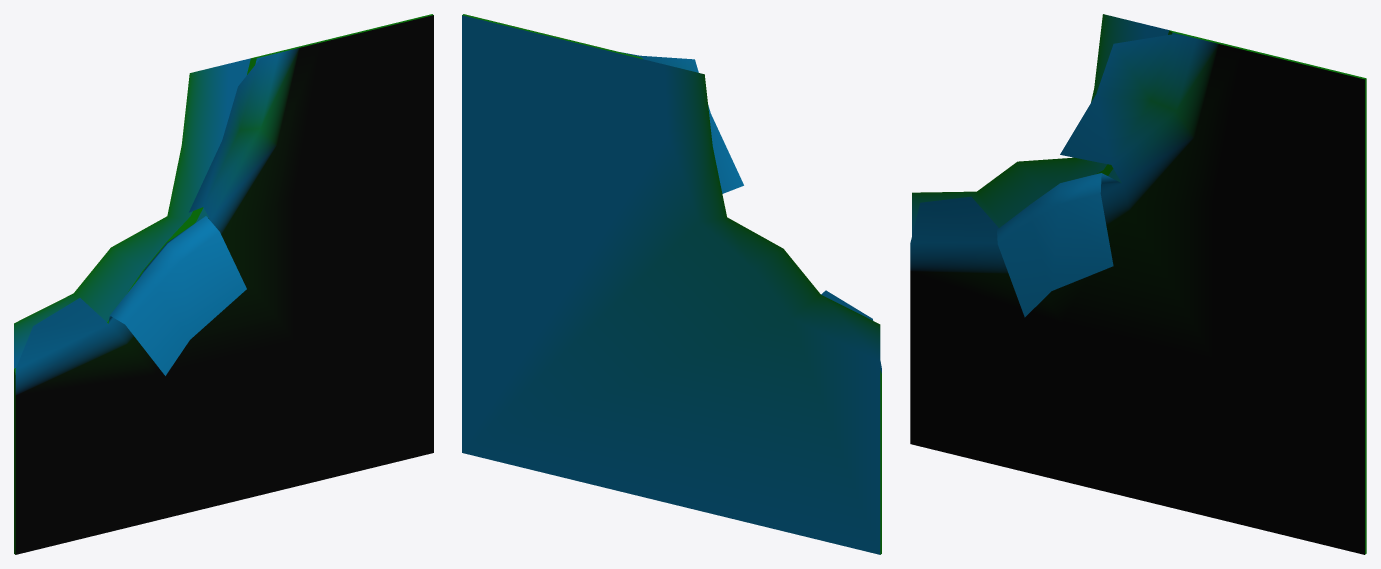
The model's file is DBK_Drywall_90_B_Single_Mirror.fbx.
3 renders of one model, left to right at view 1: azimuth 30°, elevation 25°; view 2: azimuth 150°, elevation 25°; view 3: azimuth 330°, elevation 25°, orthographic. The views are drawn at different scales.
Parts seen in each view (by area): view 1: DBK_Drywall_90_B_Single_Mirror; view 2: DBK_Drywall_90_B_Single_Mirror; view 3: DBK_Drywall_90_B_Single_Mirror.
Part boxes in pixels (bbox=[...]): DBK_Drywall_90_B_Single_Mirror: bbox=[14, 14, 433, 554]; DBK_Drywall_90_B_Single_Mirror: bbox=[462, 14, 881, 554]; DBK_Drywall_90_B_Single_Mirror: bbox=[910, 14, 1366, 554].
Size of what is drawn, in the model's own units: 300 by 300 by 29.62.
